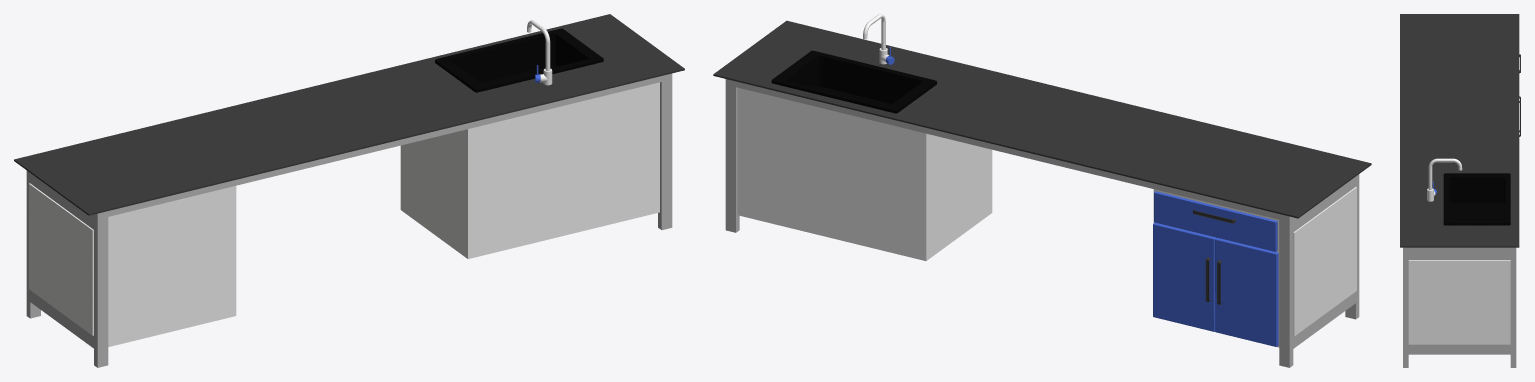
Rendered from labtable1.glb.
3 views of the same model, side by side, from view 1: azimuth 30°, elevation 25°; view 2: azimuth 150°, elevation 25°; view 3: azimuth 270°, elevation 25° (orthographic). The views are drawn at different scales.
Parts seen in each view (by area): view 1: lowerLevel, Upperlevel, sink-tube; view 2: lowerLevel, Upperlevel; view 3: Upperlevel, lowerLevel, sink-tube.
Part boxes in pixels (box(x1,y1,x2,y2)): lowerLevel: box(26, 73, 672, 367); Upperlevel: box(14, 14, 684, 215); sink-tube: box(527, 20, 552, 85); lowerLevel: box(725, 79, 1359, 367); Upperlevel: box(713, 20, 1371, 218); Upperlevel: box(1400, 14, 1519, 247); lowerLevel: box(1403, 247, 1516, 367); sink-tube: box(1427, 158, 1462, 201).
Bounding box in the file's own units: 3.68 × 1.24 × 0.8105.
